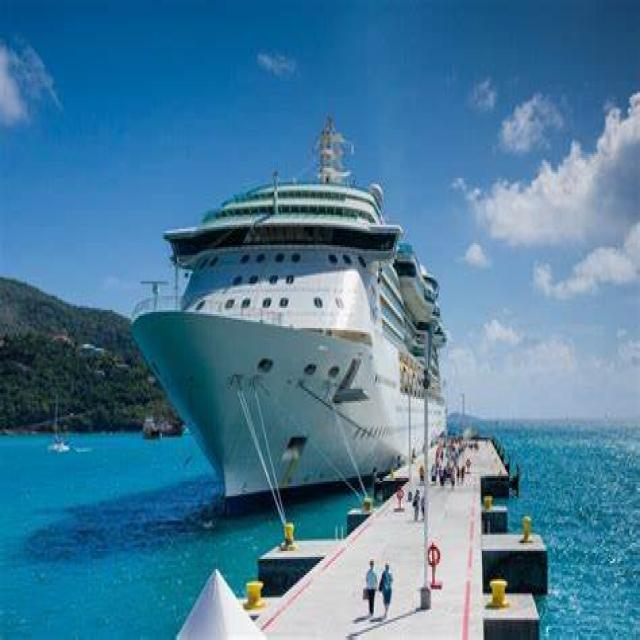PassengerShip: (103, 91, 525, 542)
